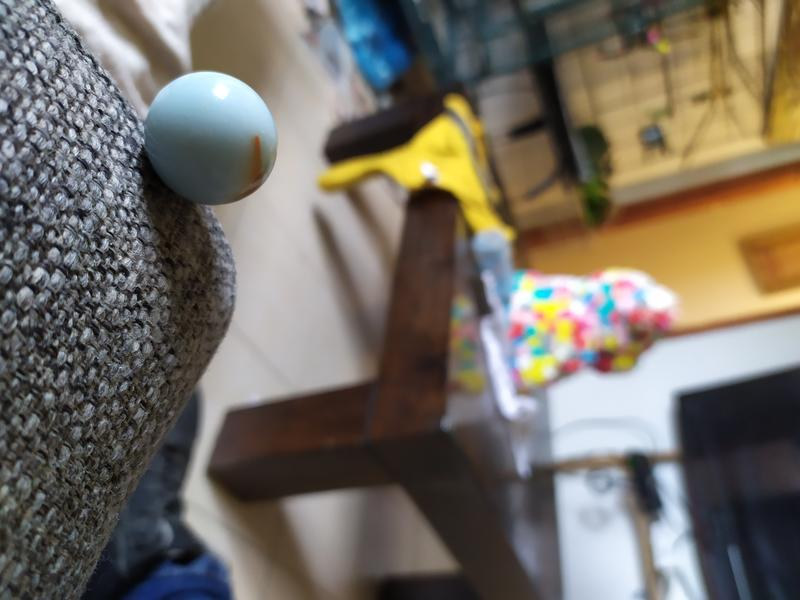Warning: (141, 68, 283, 209)
